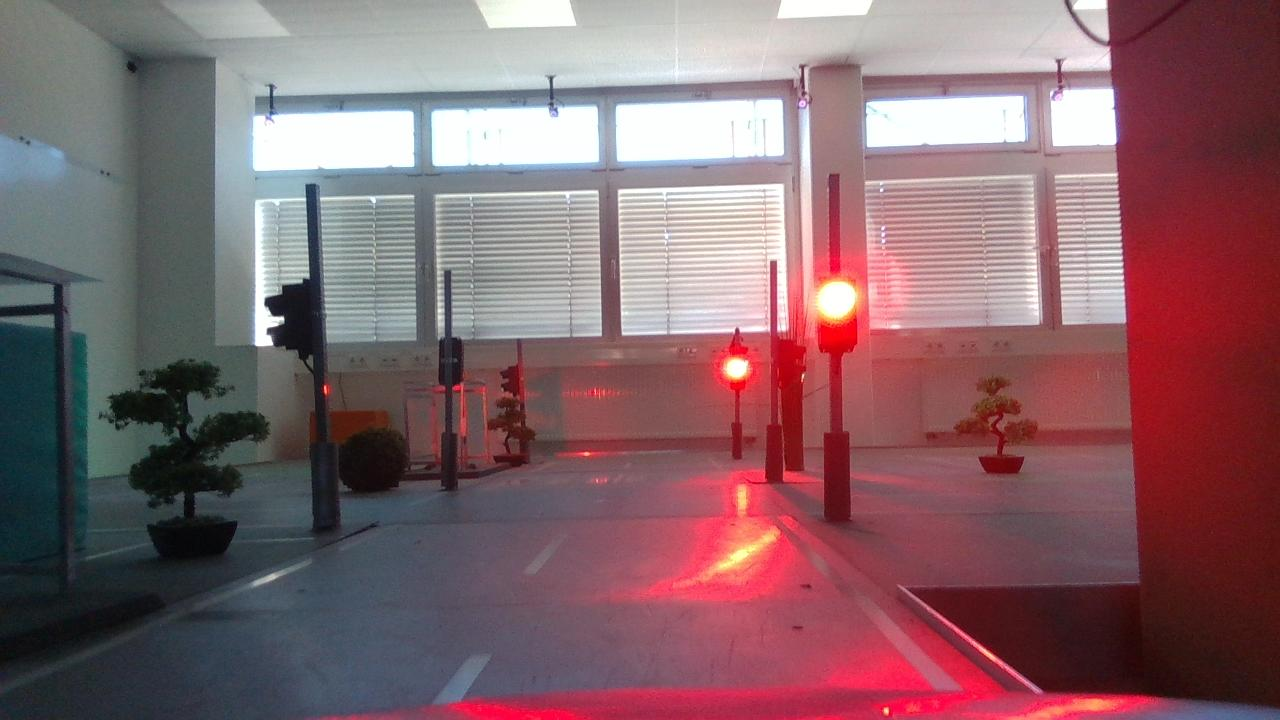traffic_light_red: (802, 268, 875, 359)
